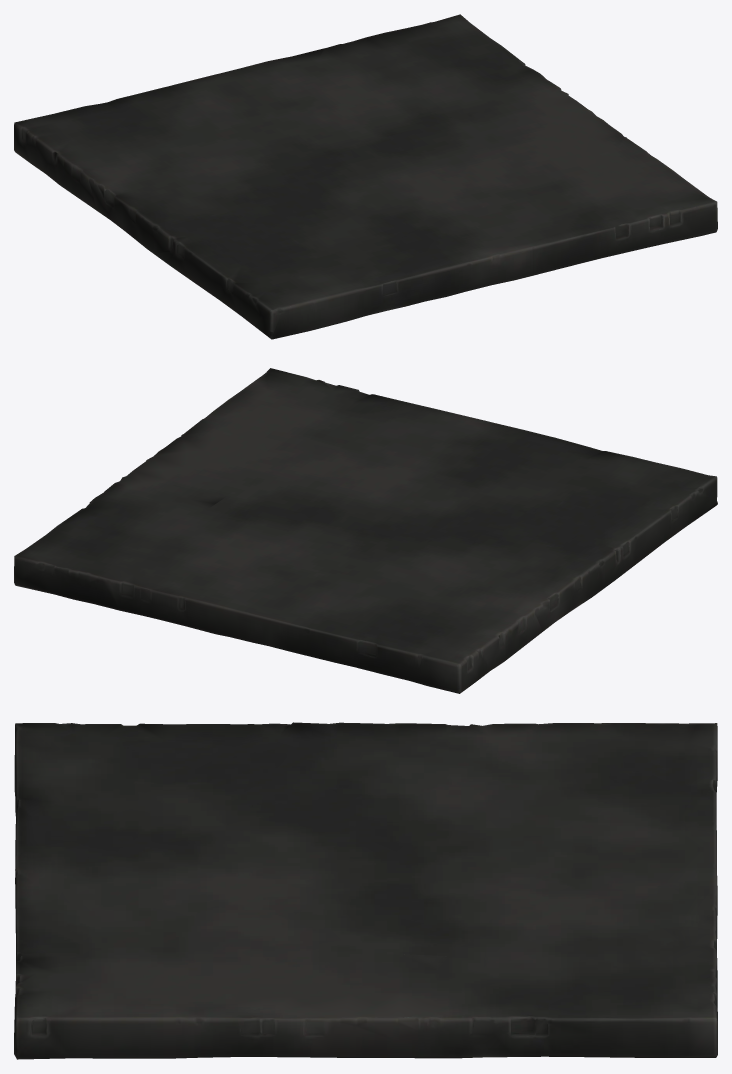
Rendered from slab0-andesite.glb.
The picture shows the model from 3 angles, top to bottom: view 1: azimuth 30°, elevation 25°; view 2: azimuth 150°, elevation 25°; view 3: azimuth 270°, elevation 25°; orthographic projection. The views are drawn at different scales.
Visible parts, largest first — view 1: slab0; view 2: slab0; view 3: slab0.
Boxes of the visible parts, left/top/right/bottom form: slab0: left=14, top=14, right=717, bottom=339; slab0: left=14, top=368, right=717, bottom=693; slab0: left=14, top=722, right=717, bottom=1059.
Bounding box in the file's own units: 0.9902 × 0.0648 × 0.9897.
1 material, 1 textured.
